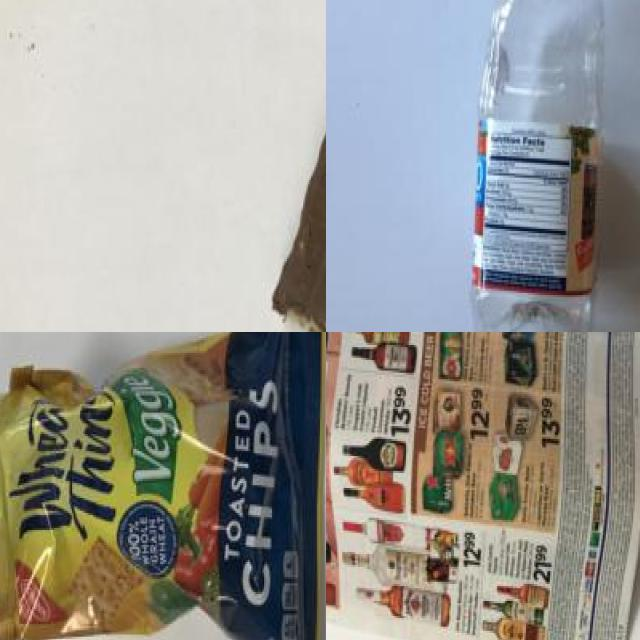compost: (238, 38, 326, 332)
paper: (326, 332, 640, 640)
plastic: (465, 0, 623, 332)
trash: (0, 332, 326, 640)
